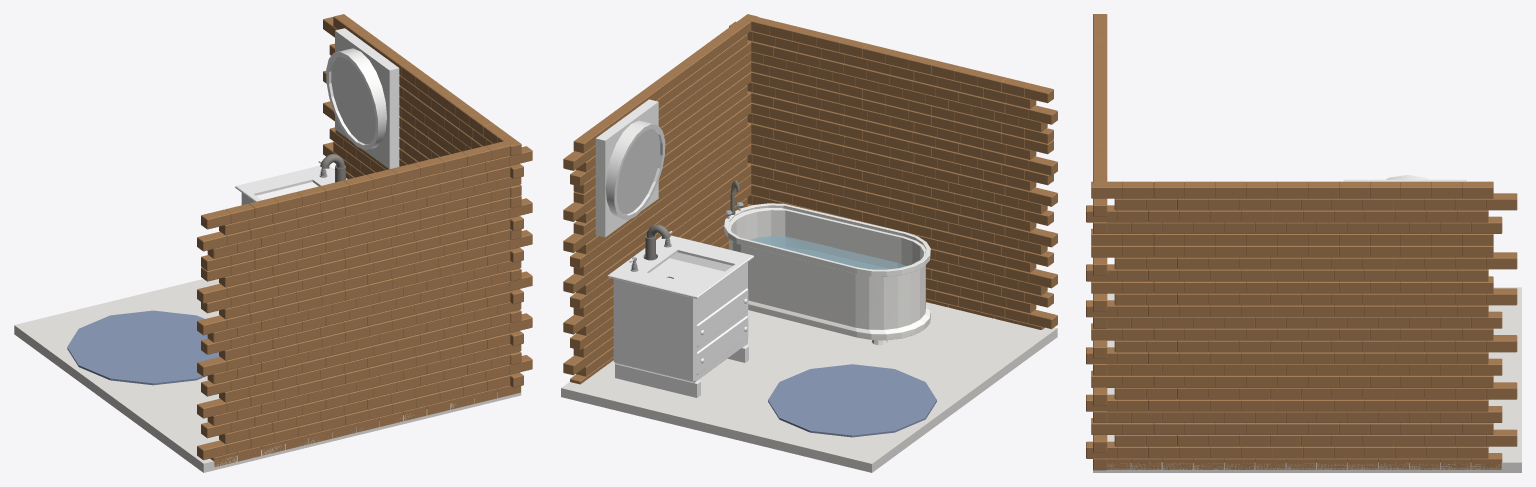
The model's file is Bathroom.fbx.
3 renders of one model, left to right at view 1: azimuth 30°, elevation 25°; view 2: azimuth 150°, elevation 25°; view 3: azimuth 270°, elevation 25°, orthographic. The views are drawn at different scales.
Visible parts, largest first — view 1: Wall1, Floor, Wall, FloorT, Mirror, SinkD; view 2: Wall1, Floor, Wall, Bath, SinkD, FloorT, Mirror; view 3: Wall, Floor, Wall1, Mirror.
Part boxes in pixels (left/top/right/bottom): Wall1: left=197, top=140, right=532, bottom=467; Floor: left=14, top=279, right=521, bottom=472; Wall: left=323, top=14, right=523, bottom=387; FloorT: left=67, top=310, right=219, bottom=385; Mirror: left=326, top=28, right=399, bottom=168; SinkD: left=235, top=154, right=347, bottom=204; Wall1: left=729, top=16, right=1057, bottom=329; Floor: left=561, top=302, right=1057, bottom=472; Wall: left=563, top=14, right=757, bottom=384; Bath: left=724, top=180, right=930, bottom=345; SinkD: left=607, top=224, right=753, bottom=397; FloorT: left=768, top=364, right=936, bottom=437; Mirror: left=595, top=99, right=665, bottom=237; Wall: left=1086, top=181, right=1517, bottom=469; Floor: left=1093, top=287, right=1521, bottom=472; Wall1: left=1093, top=14, right=1107, bottom=470; Mirror: left=1343, top=175, right=1466, bottom=181.
Bounding box in the file's own units: 18.77 × 13.73 × 18.97.
